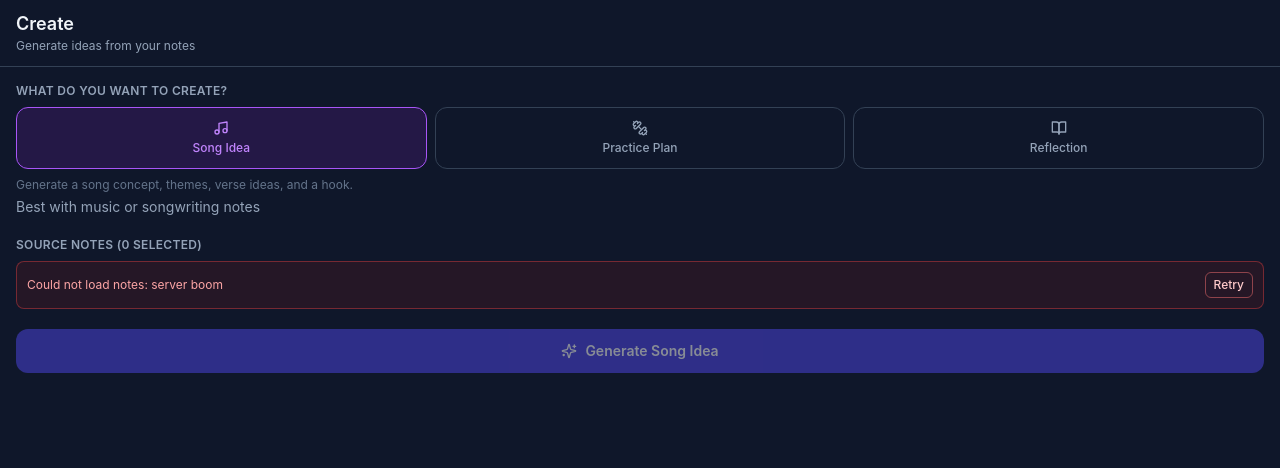
it: CreatePage (Task 5.3) › note-load failure shows retry button that re-fetches
The width and height of the screenshot is (1280, 468).
Click the button "Retry" at (1229, 285), box x1=1204 y1=272 x2=1253 y2=298
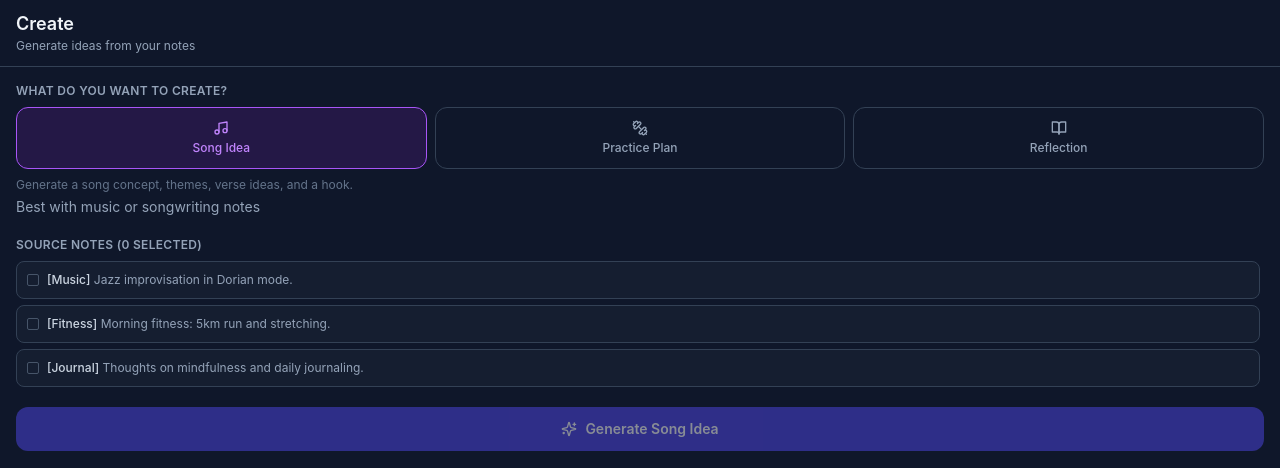
expect the text "[Music] Jazz improvisation in Dorian mode." is shown: met, box x1=47 y1=272 x2=293 y2=287
